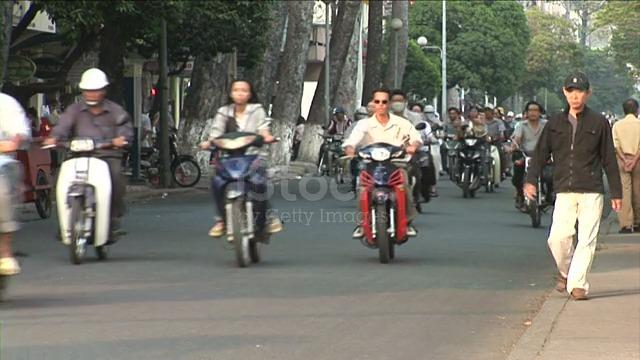helmet: (77, 69, 109, 107)
nohelmet: (561, 73, 591, 110), (227, 77, 255, 107), (370, 88, 393, 119), (388, 89, 408, 115), (524, 100, 542, 122), (622, 98, 639, 119), (467, 104, 480, 120), (483, 103, 495, 119), (448, 106, 458, 121)
